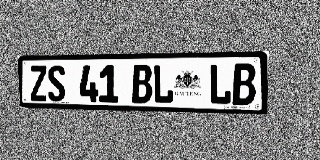1: (98, 65, 118, 103)
4: (79, 65, 98, 102)
B: (232, 63, 256, 105), (132, 64, 152, 103)
L: (209, 64, 232, 105), (153, 64, 173, 104)
S: (47, 65, 66, 102)
Z: (29, 65, 48, 101)
